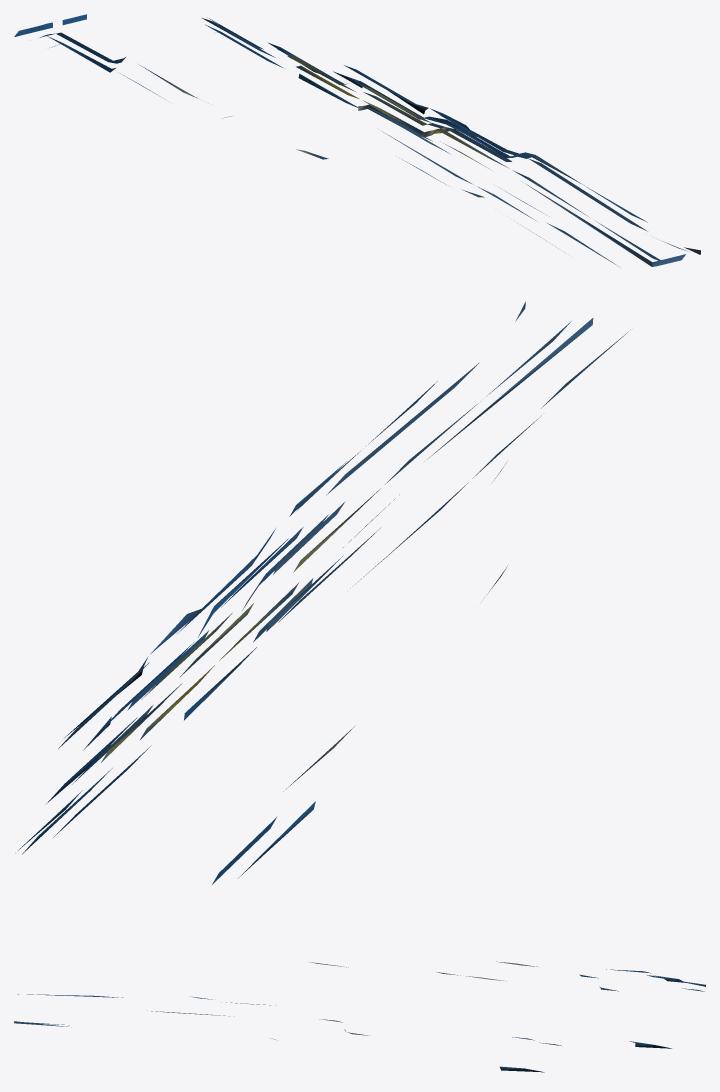
The model's file is frame_00286.glb.
3 views of the same model, one above another, from view 1: azimuth 30°, elevation 25°; view 2: azimuth 150°, elevation 25°; view 3: azimuth 270°, elevation 25° (orthographic). The views are drawn at different scales.
Parts seen in each view (by area): view 1: geometry_0; view 2: geometry_0; view 3: geometry_0.
Boxes of the visible parts, box(x1,y1,x2,y2) form: geometry_0: box(14, 14, 700, 266); geometry_0: box(18, 301, 630, 884); geometry_0: box(14, 961, 705, 1072).
Bounding box in the file's own units: 0.0495 × 0.013 × 0.16.
Materials: 1 (1 with a texture image).
